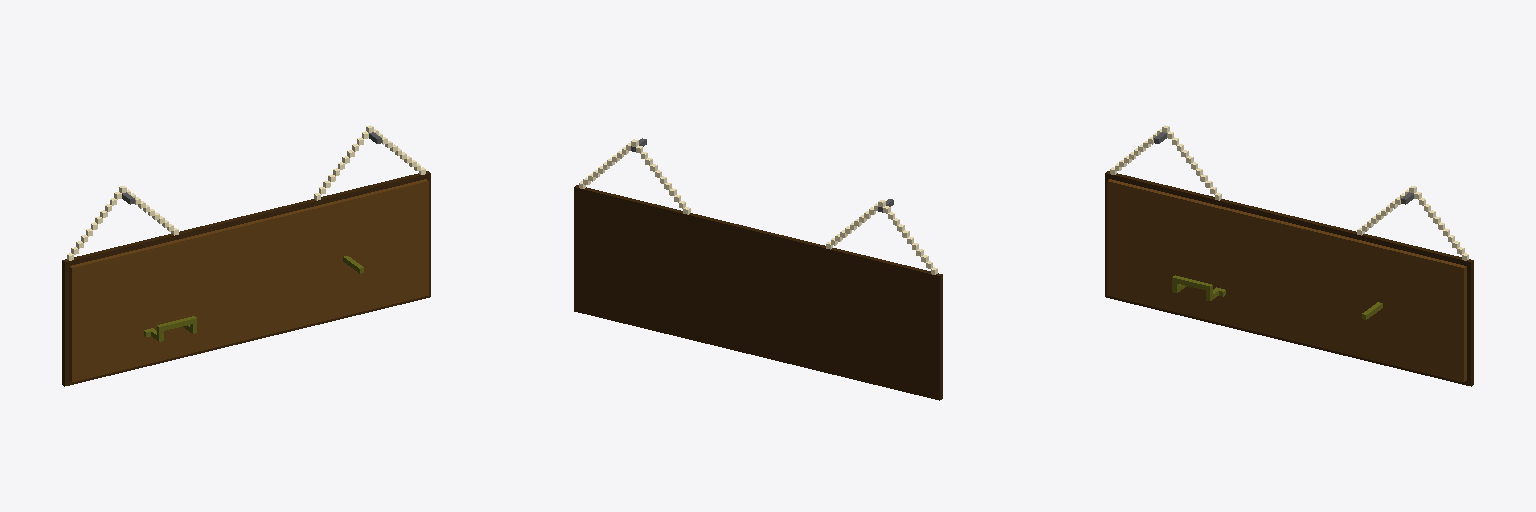
3 views of the same model, side by side, from view 1: azimuth 30°, elevation 25°; view 2: azimuth 150°, elevation 25°; view 3: azimuth 330°, elevation 25° (orthographic).
Parts seen in each view (by area): view 1: SwordMount-0; view 2: SwordMount-0; view 3: SwordMount-0.
Boxes of the visible parts, <box> form: SwordMount-0: <box>62,125,430,386</box>; SwordMount-0: <box>574,138,942,400</box>; SwordMount-0: <box>1105,125,1473,386</box>.
Size of the model in its own units: 77 by 37 by 8.
1 materials, 1 textured.